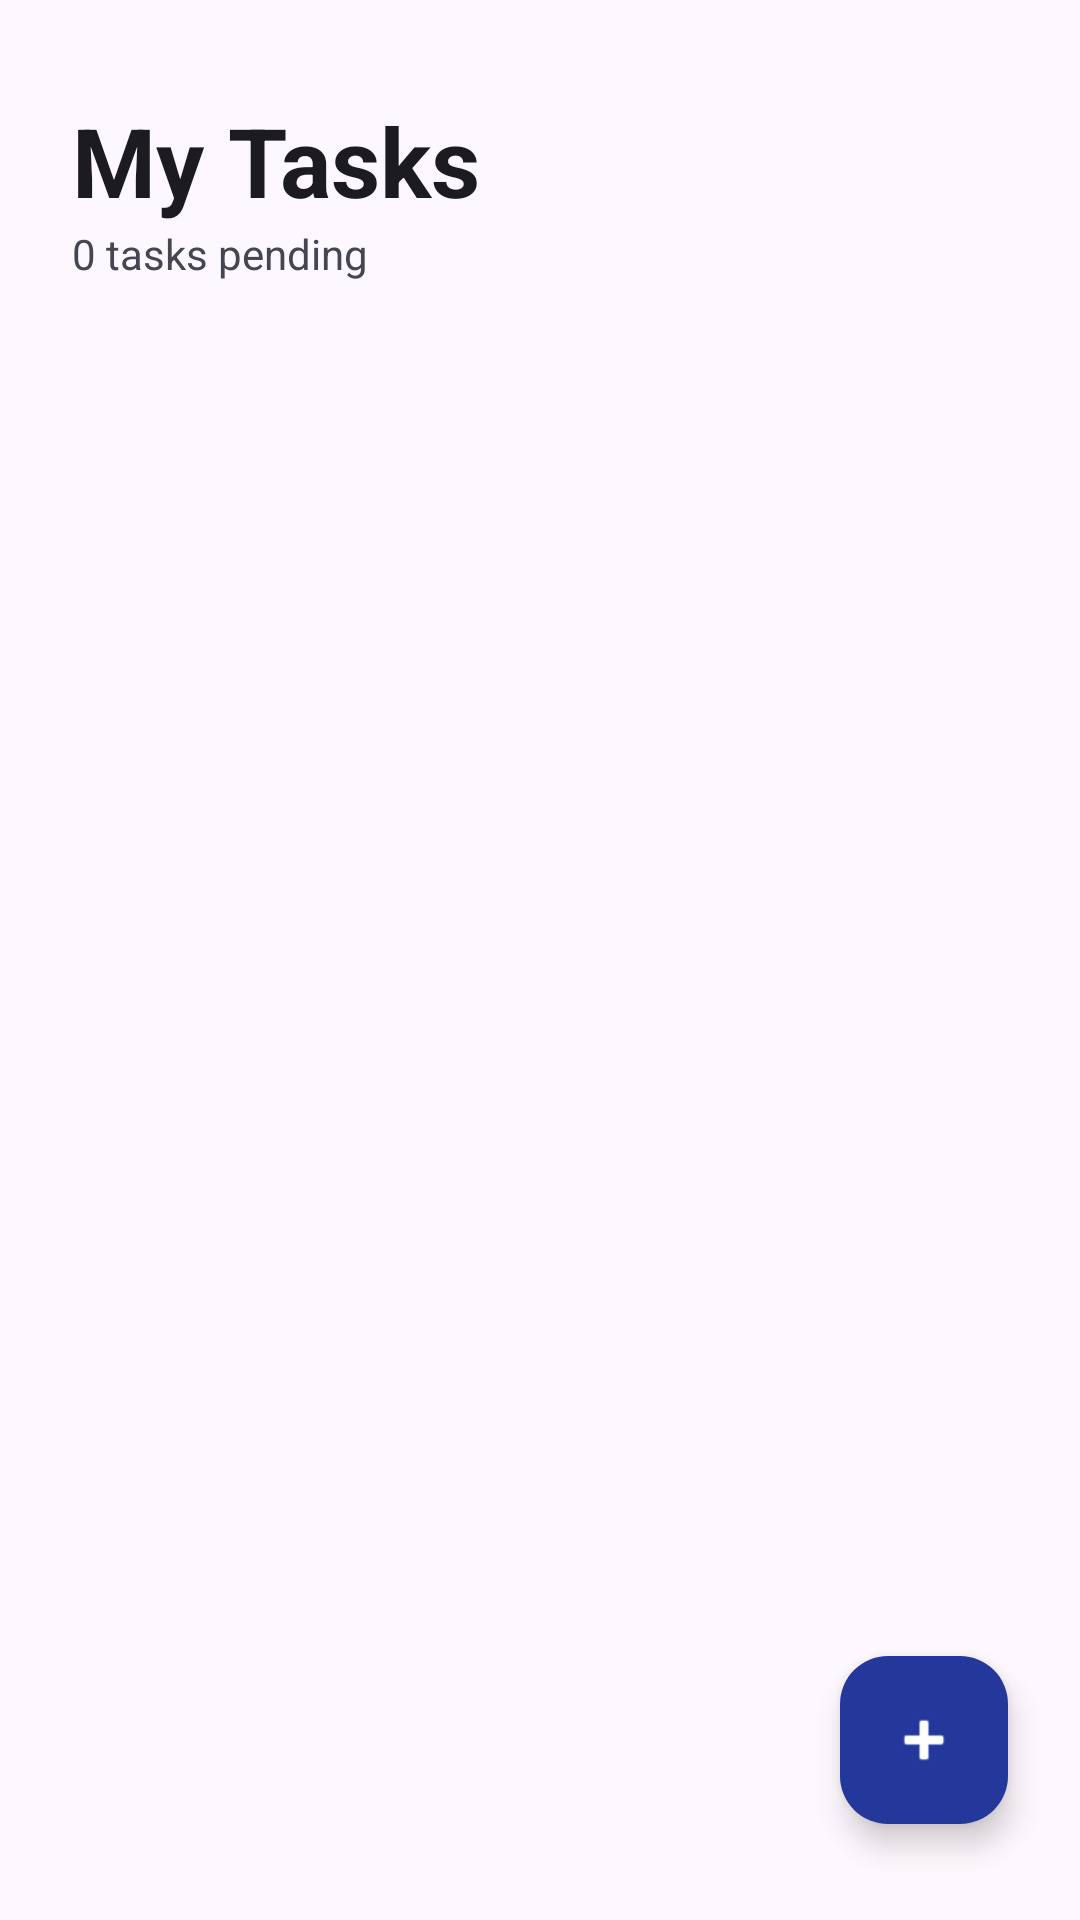

Locate icon controls on the screen. Image size 1080 x 1920, boxes as [left=x1, top=y1, right=x2, bottom=y2].
add: [left=840, top=1656, right=1008, bottom=1824]
